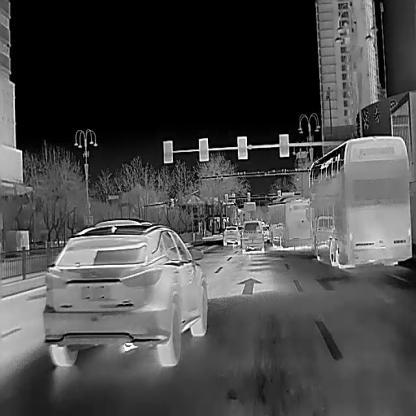car: (42, 219, 208, 368), (307, 135, 412, 270), (267, 195, 312, 250), (242, 219, 263, 253), (222, 224, 240, 245)
